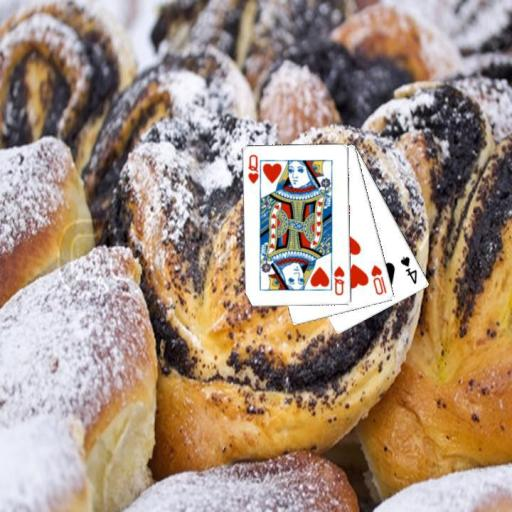10H: (369, 262, 389, 297)
4S: (397, 253, 419, 286)
QH: (245, 152, 263, 189), (331, 263, 346, 297)
